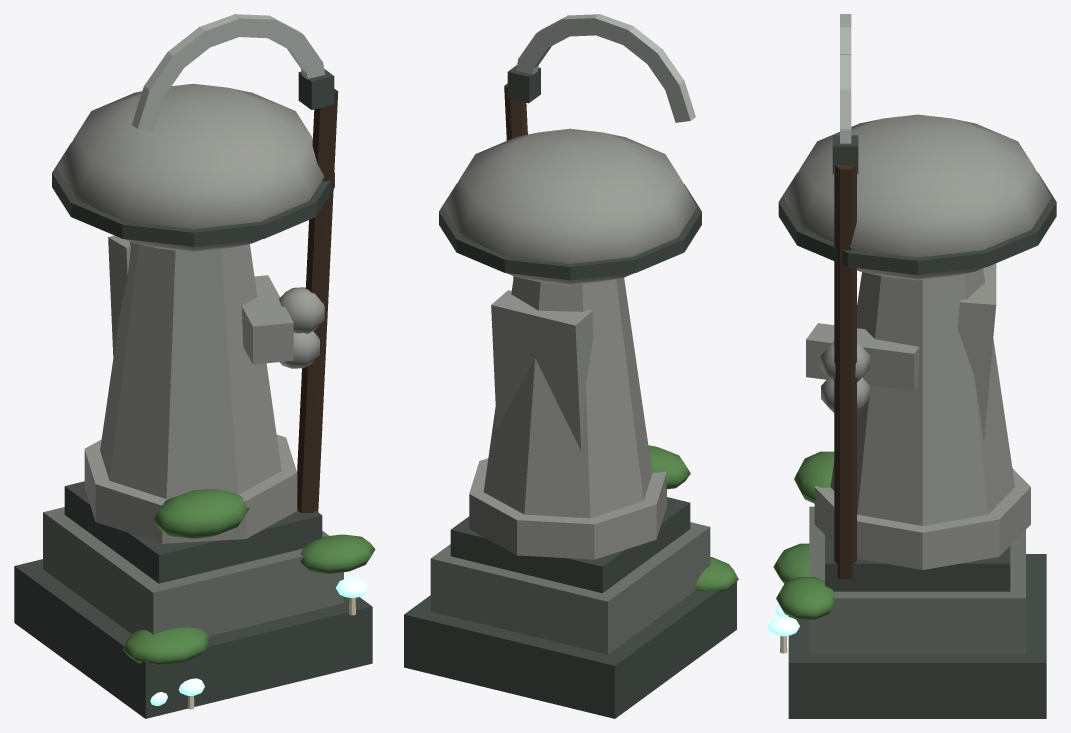
File: Build_Lobby_GuardianStatue.glb
3 renders of one model, left to right at view 1: azimuth 30°, elevation 25°; view 2: azimuth 150°, elevation 25°; view 3: azimuth 270°, elevation 25°, orthographic. The views are drawn at different scales.
Parts seen in each view (by area): view 1: Build_Lobby_GuardianStatue; view 2: Build_Lobby_GuardianStatue; view 3: Build_Lobby_GuardianStatue.
Boxes of the visible parts, box(x1,y1,x2,y2) form: Build_Lobby_GuardianStatue: box(14, 14, 375, 718); Build_Lobby_GuardianStatue: box(404, 14, 738, 718); Build_Lobby_GuardianStatue: box(767, 14, 1056, 718).
Size of the model in its own units: 5.4 by 13.72 by 5.62.
